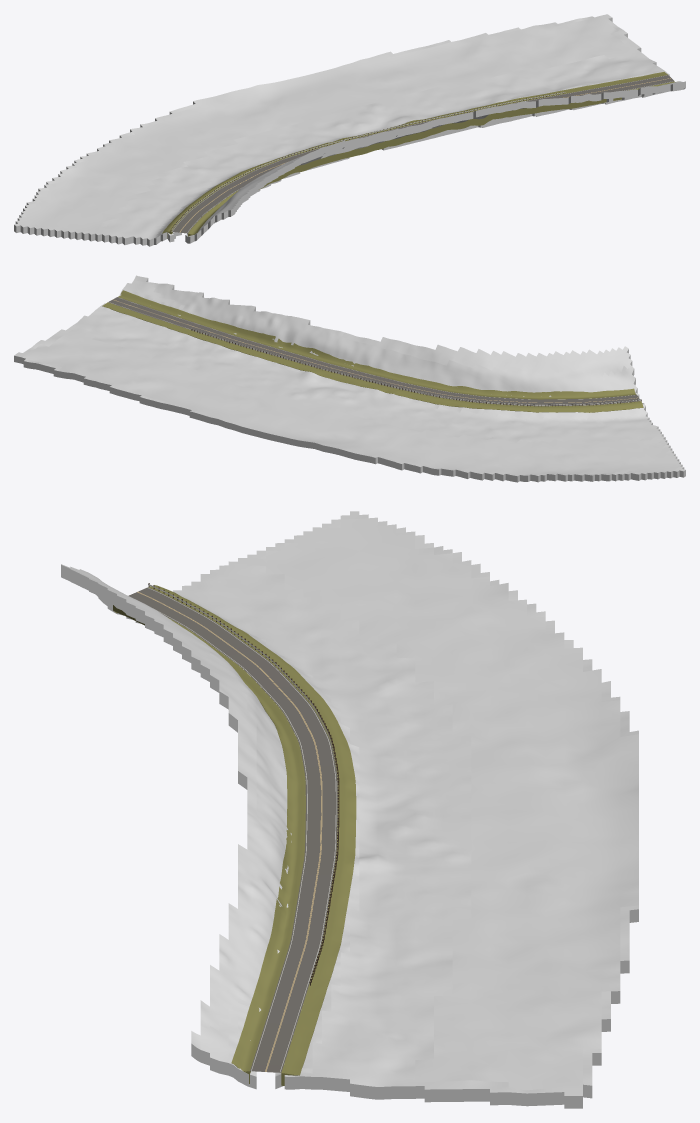
Rendered from conz_41.glb.
3 renders of one model, top to bottom at view 1: azimuth 30°, elevation 25°; view 2: azimuth 150°, elevation 25°; view 3: azimuth 270°, elevation 25°, orthographic. The views are drawn at different scales.
Parts seen in each view (by area): view 1: terrain41, verge41R, road41, verge41L, beam41_31150; view 2: terrain41, verge41R, road41, verge41L, beam41_31150, paint_yellow41, posts41_31150; view 3: terrain41, road41, verge41L, verge41R, paint_white41, paint_yellow41, posts41_31150.
Part boxes in pixels (x1,y1,x2,y2): terrain41: [14, 14, 685, 246]; verge41R: [188, 81, 677, 236]; road41: [171, 75, 674, 233]; verge41L: [162, 71, 667, 237]; beam41_31150: [172, 92, 565, 229]; terrain41: [14, 275, 685, 482]; verge41R: [118, 290, 636, 399]; road41: [108, 297, 640, 406]; verge41L: [102, 302, 643, 412]; beam41_31150: [191, 328, 640, 405]; paint_yellow41: [113, 299, 637, 402]; posts41_31150: [191, 329, 641, 406]; terrain41: [61, 511, 638, 1108]; road41: [128, 587, 337, 1072]; verge41L: [148, 585, 356, 1085]; verge41R: [113, 605, 305, 1083]; paint_white41: [147, 587, 336, 1072]; paint_yellow41: [137, 591, 322, 1071]; posts41_31150: [148, 583, 339, 985].
Bounding box in the file's own units: 304 × 21.31 × 124.
